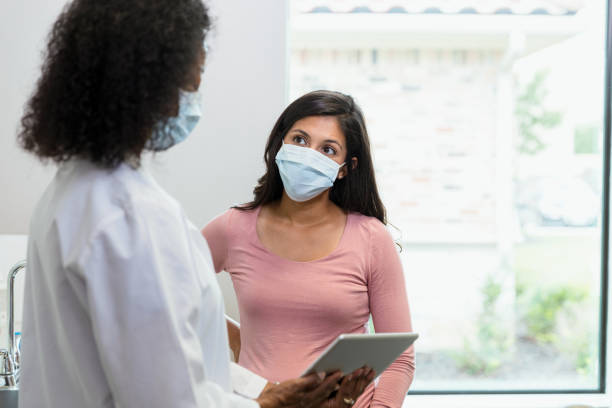with mask: (143, 22, 220, 160), (275, 117, 346, 204)
